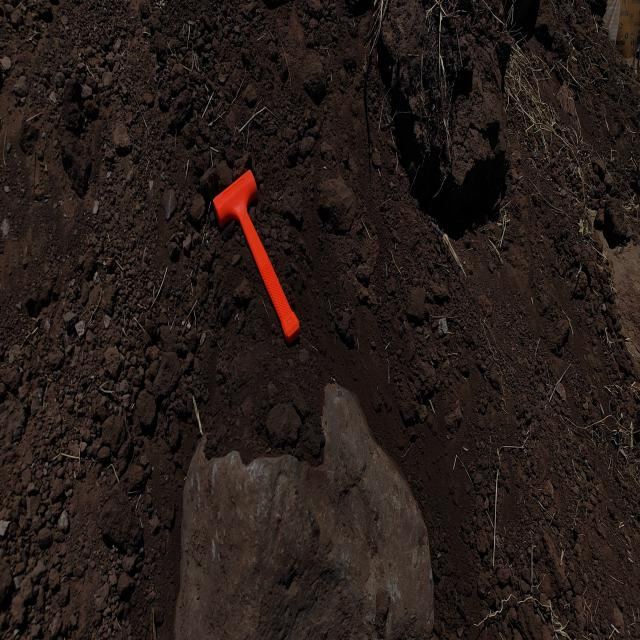Orange_hammer: (210, 168, 300, 346)
